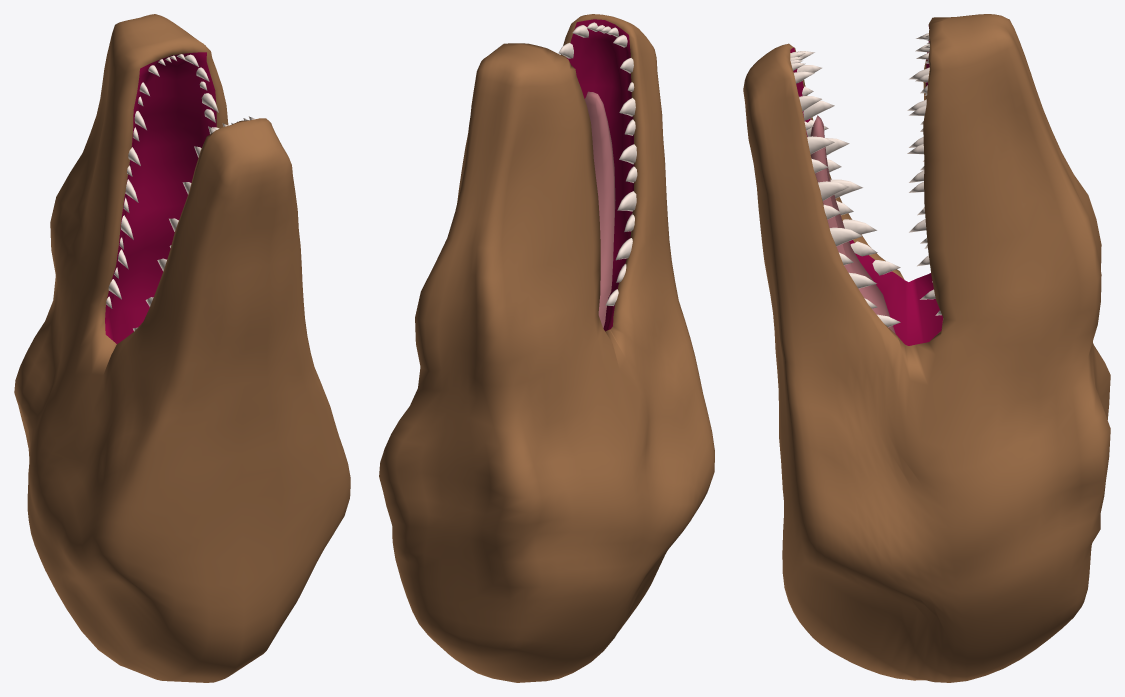
Rendered from Carnizaur - Poliostasis.fbx.
3 renders of one model, left to right at view 1: azimuth 30°, elevation 25°; view 2: azimuth 150°, elevation 25°; view 3: azimuth 270°, elevation 25°, orthographic. The views are drawn at different scales.
Parts seen in each view (by area): view 1: Carnizaur - Poliostasis; view 2: Carnizaur - Poliostasis; view 3: Carnizaur - Poliostasis.
Part boxes in pixels (x1,y1,x2,y2): Carnizaur - Poliostasis: (14,14,350,682); Carnizaur - Poliostasis: (379,14,714,682); Carnizaur - Poliostasis: (743,14,1110,682).
Bounding box in the file's own units: 58.45 × 138 × 70.89.
